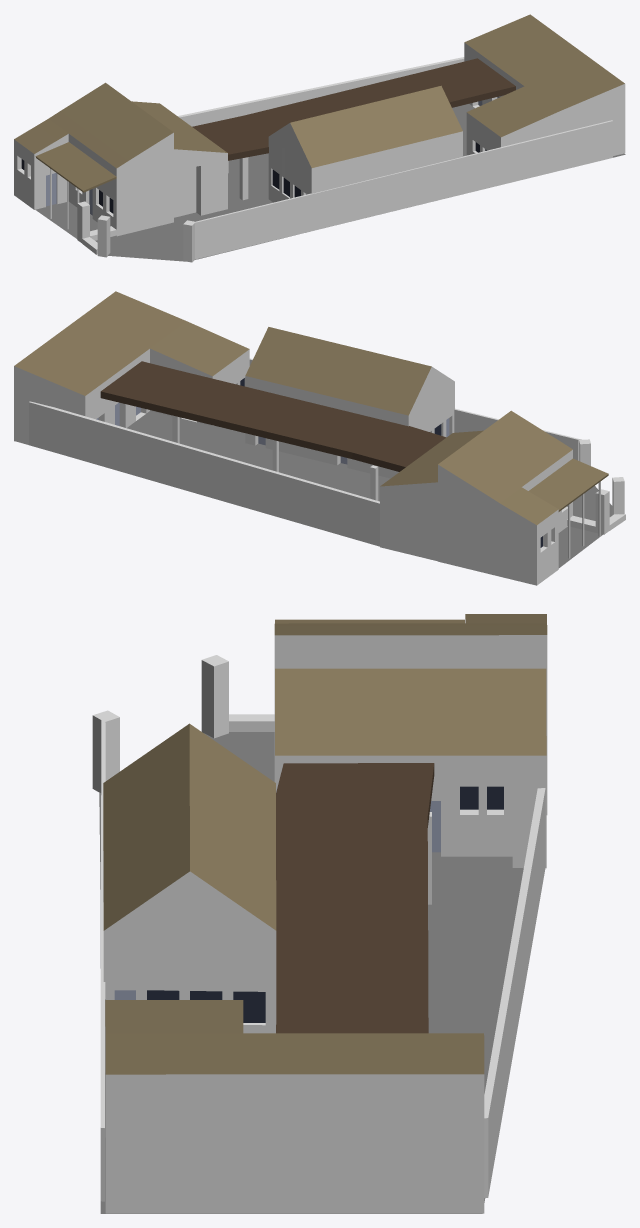
File: CEC.gltf
The picture shows the model from 3 angles, top to bottom: view 1: azimuth 30°, elevation 25°; view 2: azimuth 150°, elevation 25°; view 3: azimuth 270°, elevation 25°; orthographic projection. The views are drawn at different scales.
Parts seen in each view (by area): view 1: Tapial 1, Edificio 1, Edificio 4, Edificio 3, Techo galeria patio, Plane, Edificio 2, Tapial 2, Techo galeria frente, Pilar frente 5.001, Pilar frente 1, Pilar frente 5 (+1 smaller); view 2: Edificio 1, Edificio 4, Tapial 2, Edificio 3, Techo galeria patio, Plane, Edificio 2, Techo galeria frente, Tapial 1, Pilar frente 1, Pilar frente 5.001; view 3: Edificio 4, Edificio 3, Techo galeria patio, Edificio 2, Plane, Edificio 1, Tapial 2, Pilar frente 5.001, Tapial 1, Pilar frente 5, Techo galeria frente, Tapialcito 2.
Part boxes in pixels (x1,y1,x2,y2): Tapial 1: (195,120,612,259); Edificio 1: (14,82,173,236); Edificio 4: (464,14,625,155); Edificio 3: (268,85,462,202); Techo galeria patio: (192,58,515,160); Plane: (35,104,625,261); Edificio 2: (131,101,227,217); Tapial 2: (177,57,464,126); Techo galeria frente: (35,142,116,192); Pilar frente 5.001: (97,215,110,257); Pilar frente 1: (77,201,89,243); Pilar frente 5: (183,220,195,262); Edificio 1: (438,410,572,585); Edificio 4: (14,291,249,444); Tapial 2: (29,401,379,546); Edificio 3: (245,327,454,478); Techo galeria patio: (100,361,446,471); Plane: (23,411,612,568); Edificio 2: (380,430,483,561); Techo galeria frente: (528,458,608,511); Tapial 1: (249,358,581,460); Pilar frente 1: (595,489,609,534); Pilar frente 5.001: (612,477,624,515); Edificio 4: (105,1000,484,1213); Edificio 3: (103,723,276,1033); Techo galeria patio: (276,763,434,1033); Edificio 2: (275,668,546,868); Plane: (99,732,523,1213); Edificio 1: (274,614,547,814); Tapial 2: (484,788,545,1197); Pilar frente 5.001: (201,655,228,738); Tapial 1: (100,720,105,1201); Pilar frente 5: (92,710,119,792); Techo galeria frente: (275,619,464,623); Tapialcito 2: (229,714,274,731).
Size of the model in its own units: 9.31 by 1.65 by 3.66.
